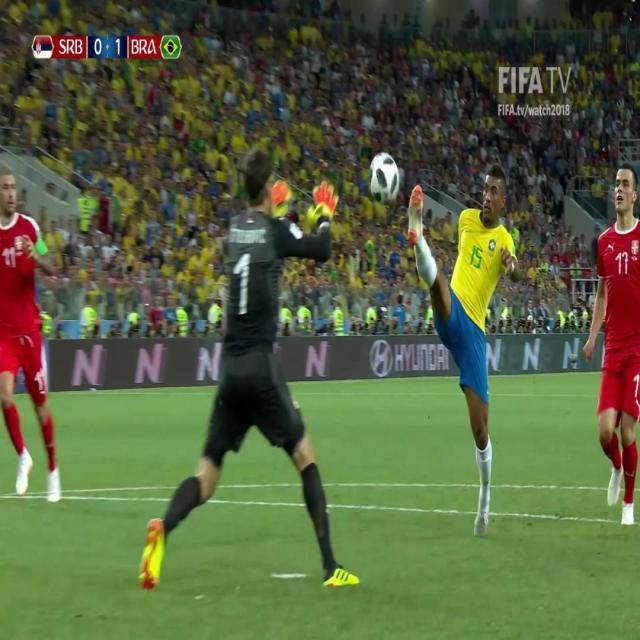ball: (366, 148, 402, 205)
goalkeeper: (137, 149, 359, 592)
player: (403, 152, 522, 536), (580, 162, 640, 526), (0, 165, 63, 508)
